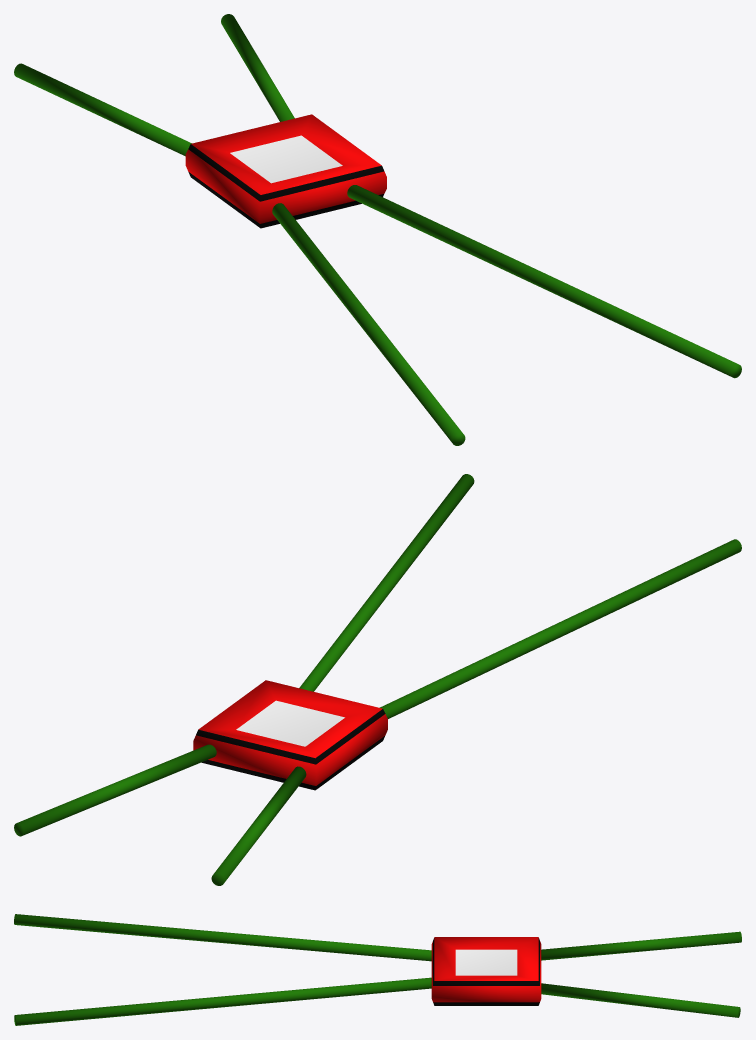
Rendered from SuspendedBumper.fbx.
3 renders of one model, top to bottom at view 1: azimuth 30°, elevation 25°; view 2: azimuth 150°, elevation 25°; view 3: azimuth 270°, elevation 25°, orthographic. The views are drawn at different scales.
Parts seen in each view (by area): view 1: Cube, Cylinder, Cylinder.001, Cylinder.002, Cylinder.003; view 2: Cube, Cylinder.001, Cylinder, Cylinder.003, Cylinder.002; view 3: Cube, Cylinder.001, Cylinder, Cylinder.002, Cylinder.003.
Boxes of the visible parts, x1=… form: Cube: x1=185, y1=114, x2=386, y2=228; Cylinder: x1=347, y1=185, x2=741, y2=378; Cylinder.001: x1=272, y1=203, x2=465, y2=445; Cylinder.002: x1=14, y1=63, x2=191, y2=156; Cylinder.003: x1=221, y1=14, x2=294, y2=121; Cube: x1=193, y1=680, x2=387, y2=790; Cylinder.001: x1=379, y1=539, x2=741, y2=718; Cylinder: x1=299, y1=474, x2=474, y2=691; Cylinder.003: x1=14, y1=744, x2=216, y2=836; Cylinder.002: x1=211, y1=766, x2=306, y2=885; Cube: x1=431, y1=937, x2=541, y2=1005; Cylinder.001: x1=14, y1=914, x2=431, y2=961; Cylinder: x1=14, y1=977, x2=431, y2=1025; Cylinder.002: x1=541, y1=931, x2=741, y2=960; Cylinder.003: x1=541, y1=983, x2=740, y2=1017.
Size of the model in its own units: 228 by 25 by 664.
Materials: 2 (1 with a texture image).
